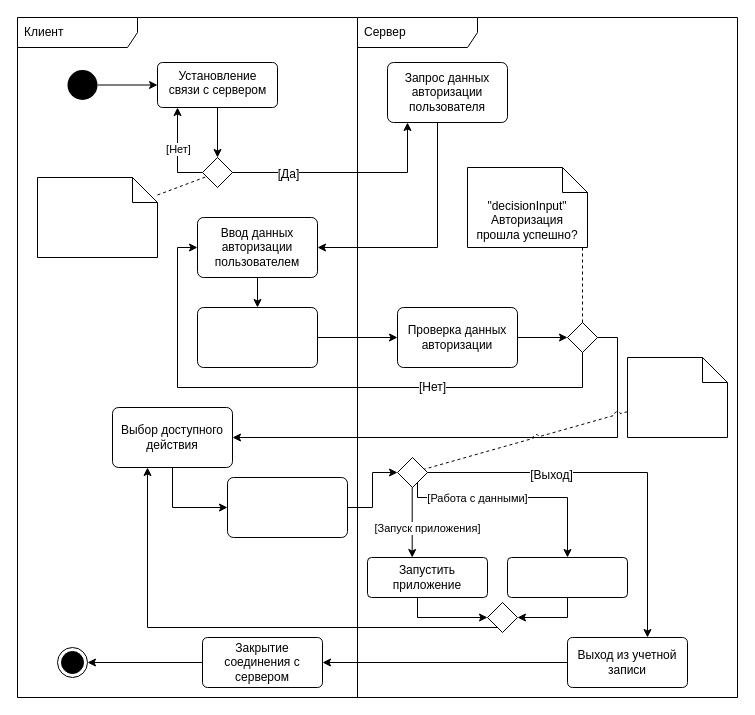
Image size: 755x715. Some labels were removed from this diagram. Each missing label, with the centre of its shape:
"decisionInput" Какое действие выбрано?: the point at 677,397
"decisionInput" Связь с сервером установлена?: the point at 97,217
Выполнить действие с данными: the point at 567,577
Отправка выбранного действия на сервер: the point at 287,507
Отправка данных авторизации на сервер: the point at 257,337
